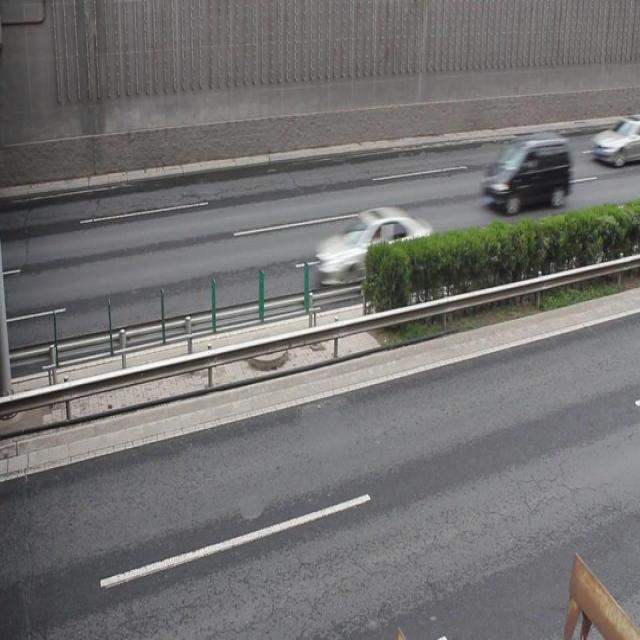car: (314, 206, 430, 288), (482, 134, 570, 212), (589, 118, 640, 168)
